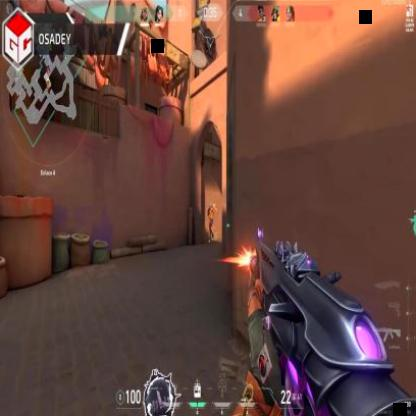enemy: (208, 203, 216, 246)
enemy_head: (208, 202, 212, 209)
